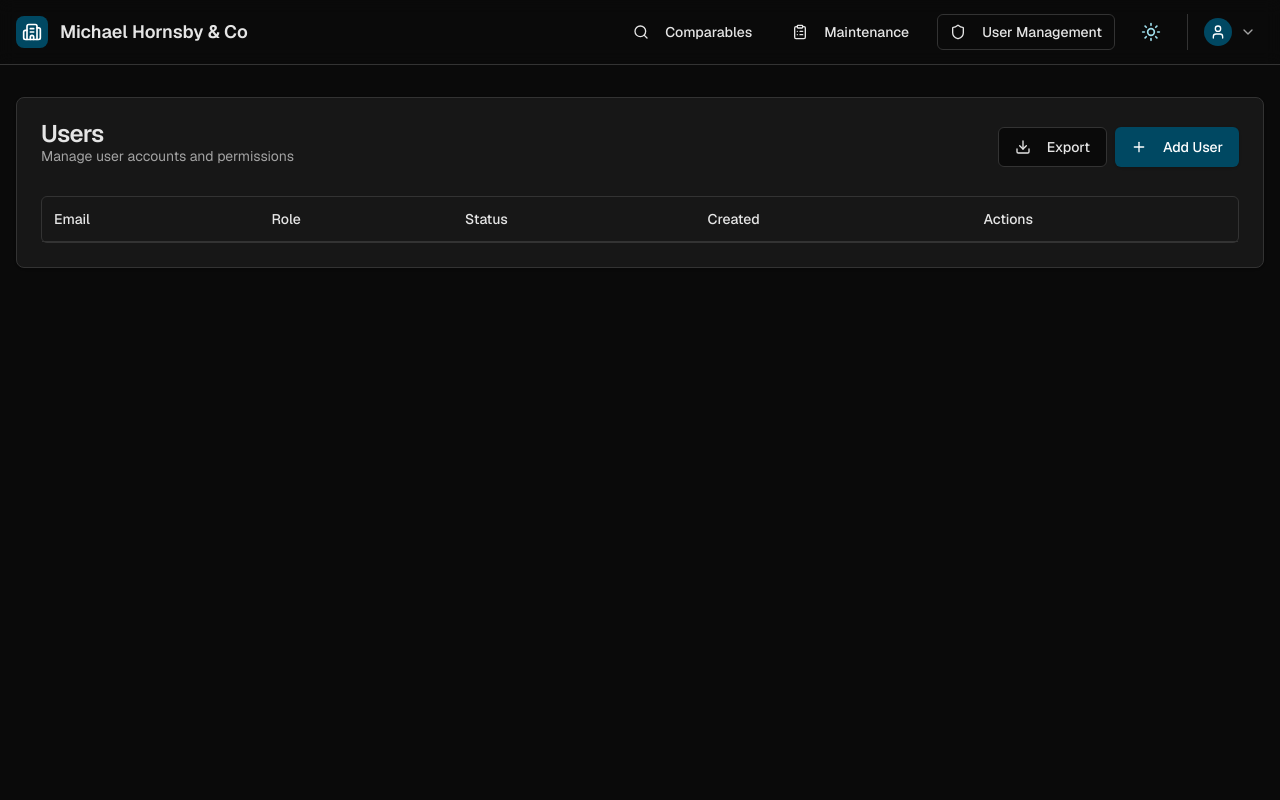
it: Users Page › opens add user modal when button clicked
This screenshot has width=1280, height=800.
Click the button "Add User": [1177, 147] box [1115, 127, 1239, 167]
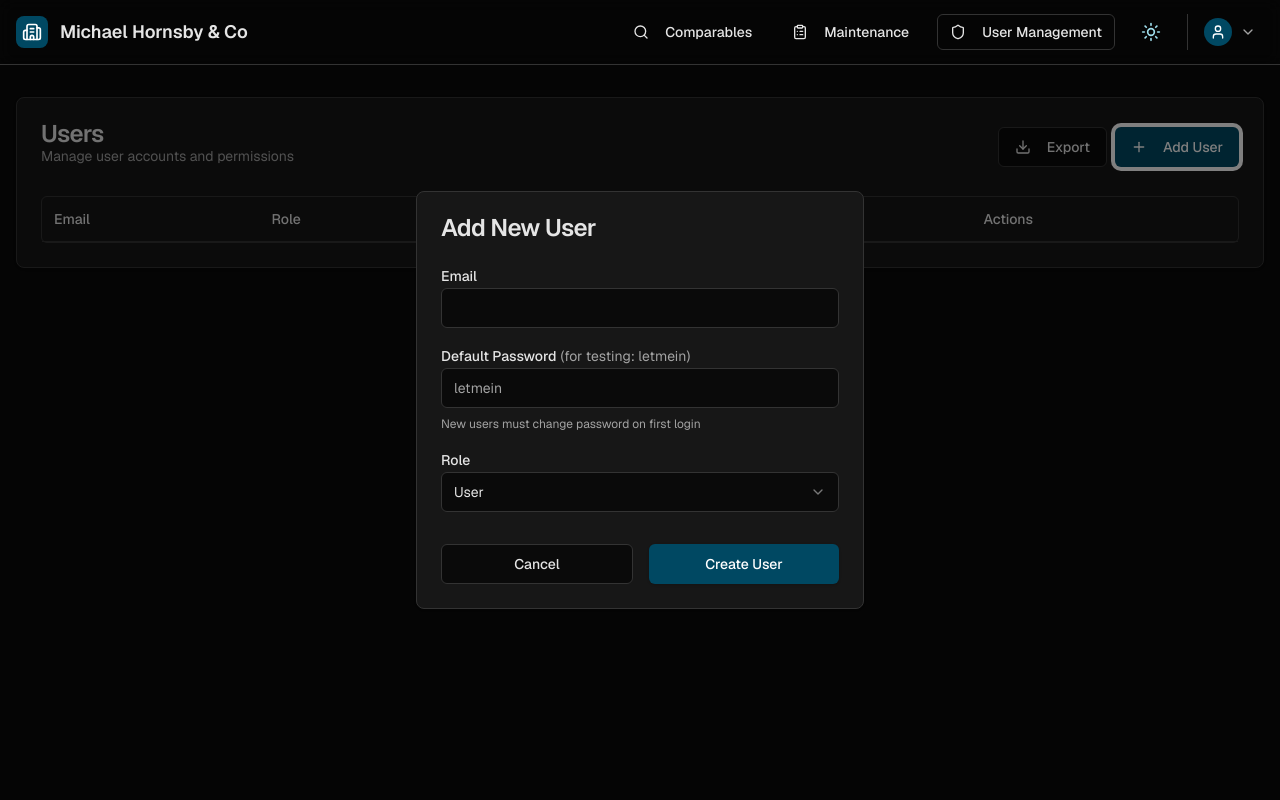
Now the heading "Add New User" is shown, box [441, 212, 596, 243]
